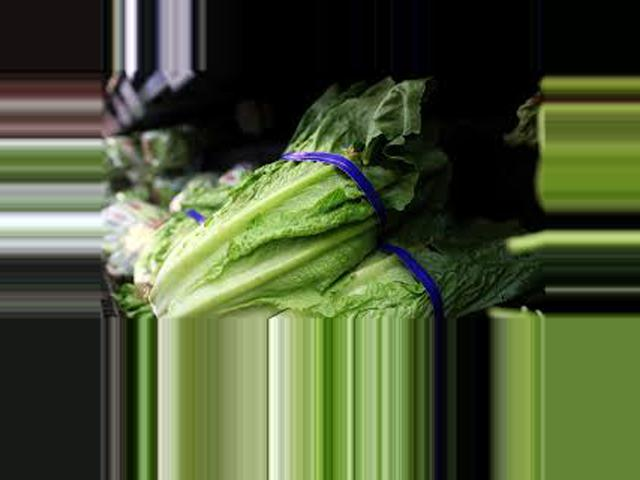lettuce: (166, 94, 442, 318)
